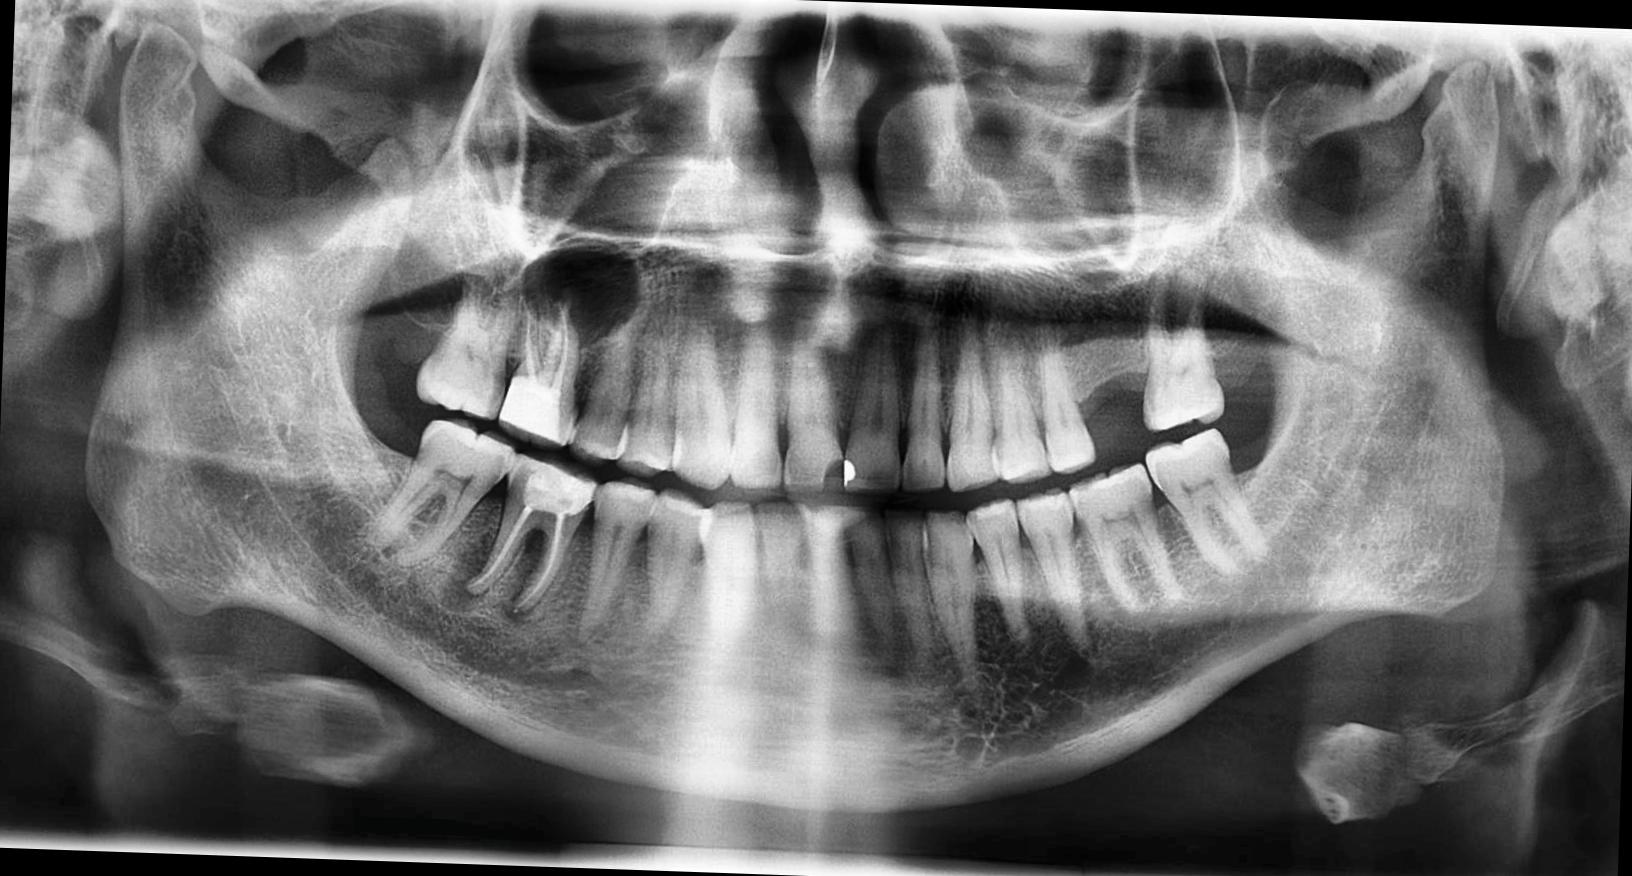radikuler: (519, 233, 645, 347), (438, 535, 511, 622)
